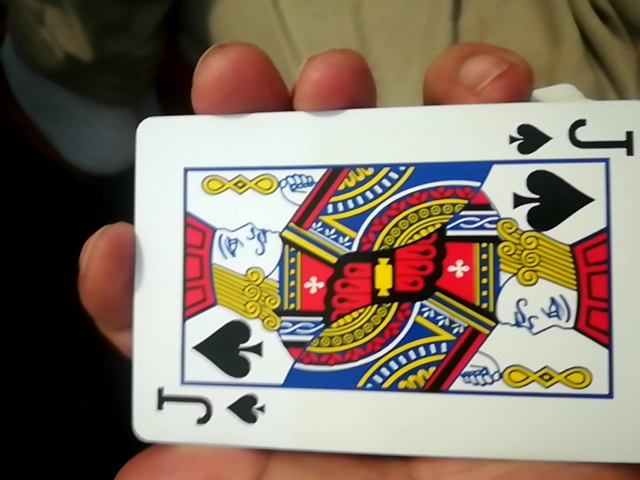ht j: (118, 105, 635, 466)
